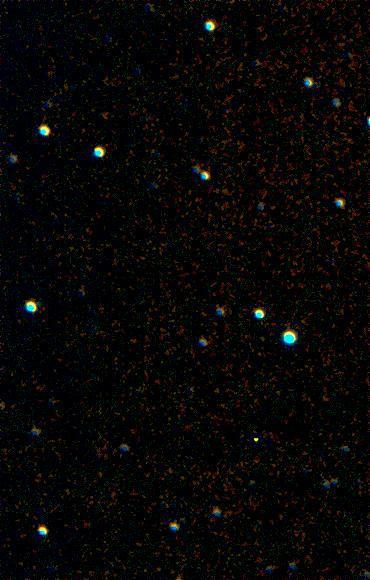star: (243, 425, 273, 455)
